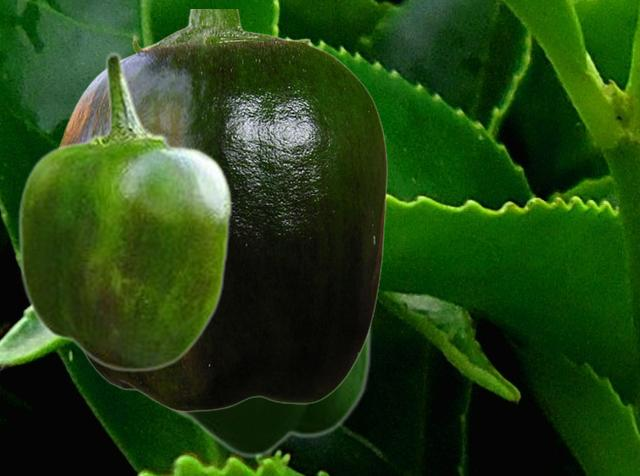bell_pepper: (57, 9, 387, 411), (17, 51, 232, 372), (154, 325, 372, 459)
